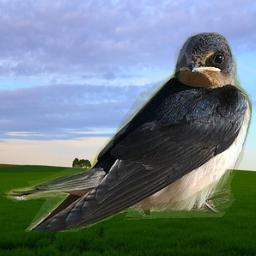Swallow: (2, 32, 252, 232)
